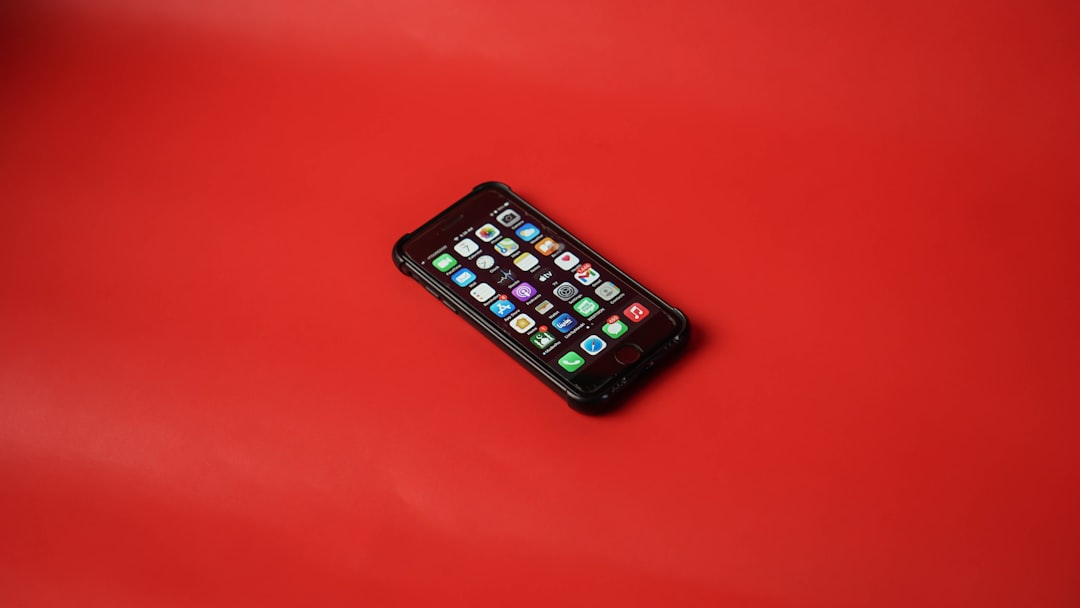phone: (389, 180, 690, 416)
